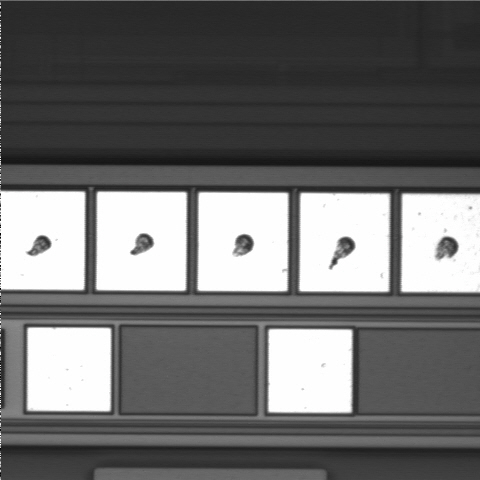pad: (96, 192, 187, 291), (299, 193, 390, 292), (198, 192, 288, 291), (268, 329, 352, 413), (27, 328, 111, 411)
